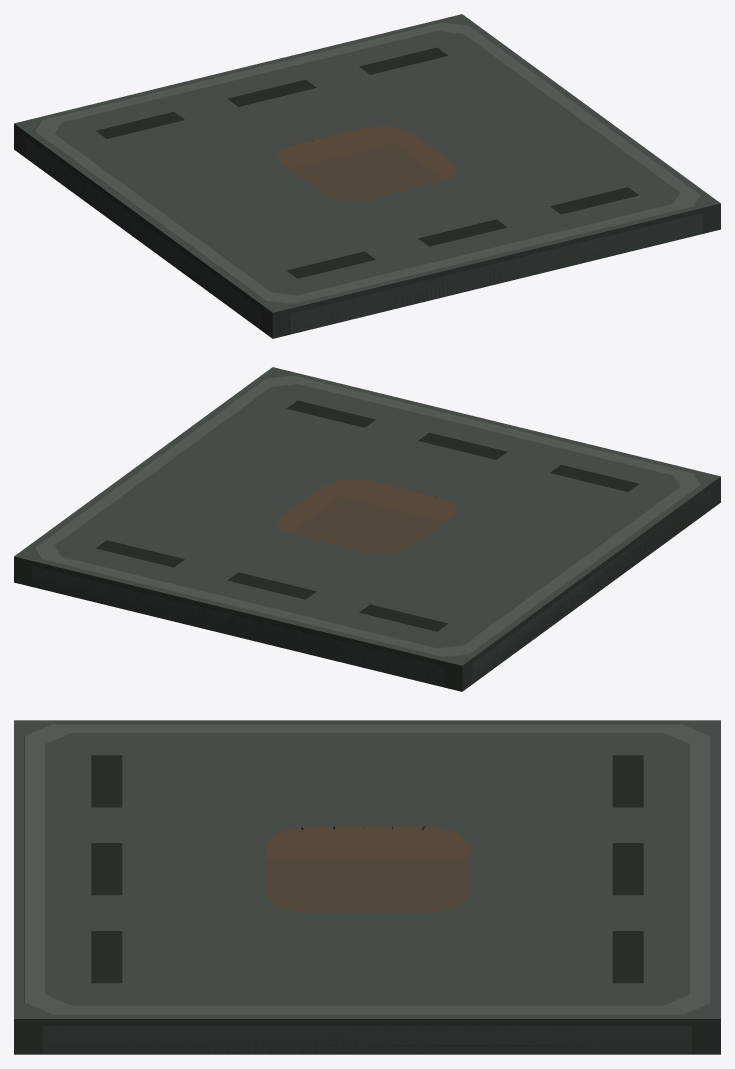
The model's file is sg-tree-pit.glb.
3 renders of one model, top to bottom at view 1: azimuth 30°, elevation 25°; view 2: azimuth 150°, elevation 25°; view 3: azimuth 270°, elevation 25°, orthographic. The views are drawn at different scales.
Parts seen in each view (by area): view 1: lod1_grate, lod0_frame, lod1_soil, lod0_soil, lod0_grate; view 2: lod1_grate, lod0_frame, lod1_soil, lod0_soil, lod0_grate; view 3: lod1_grate, lod0_frame, lod1_soil, lod0_soil, lod0_grate.
Part boxes in pixels (x1=…): lod1_grate: x1=14, y1=14, x2=720, y2=338; lod0_frame: x1=24, y1=22, x2=702, y2=334; lod1_soil: x1=289, y1=143, x2=445, y2=201; lod0_soil: x1=278, y1=126, x2=456, y2=179; lod0_grate: x1=266, y1=120, x2=468, y2=206; lod1_grate: x1=14, y1=367, x2=720, y2=691; lod0_frame: x1=32, y1=375, x2=710, y2=687; lod1_soil: x1=289, y1=496, x2=445, y2=554; lod0_soil: x1=278, y1=479, x2=456, y2=532; lod0_grate: x1=266, y1=473, x2=468, y2=559; lod1_grate: x1=14, y1=720, x2=720, y2=1054; lod0_frame: x1=24, y1=724, x2=710, y2=1054; lod1_soil: x1=266, y1=857, x2=468, y2=912; lod0_soil: x1=266, y1=826, x2=468, y2=857; lod0_grate: x1=266, y1=826, x2=468, y2=912.
Size of the model in its own units: 1.6 by 0.09 by 1.6.
